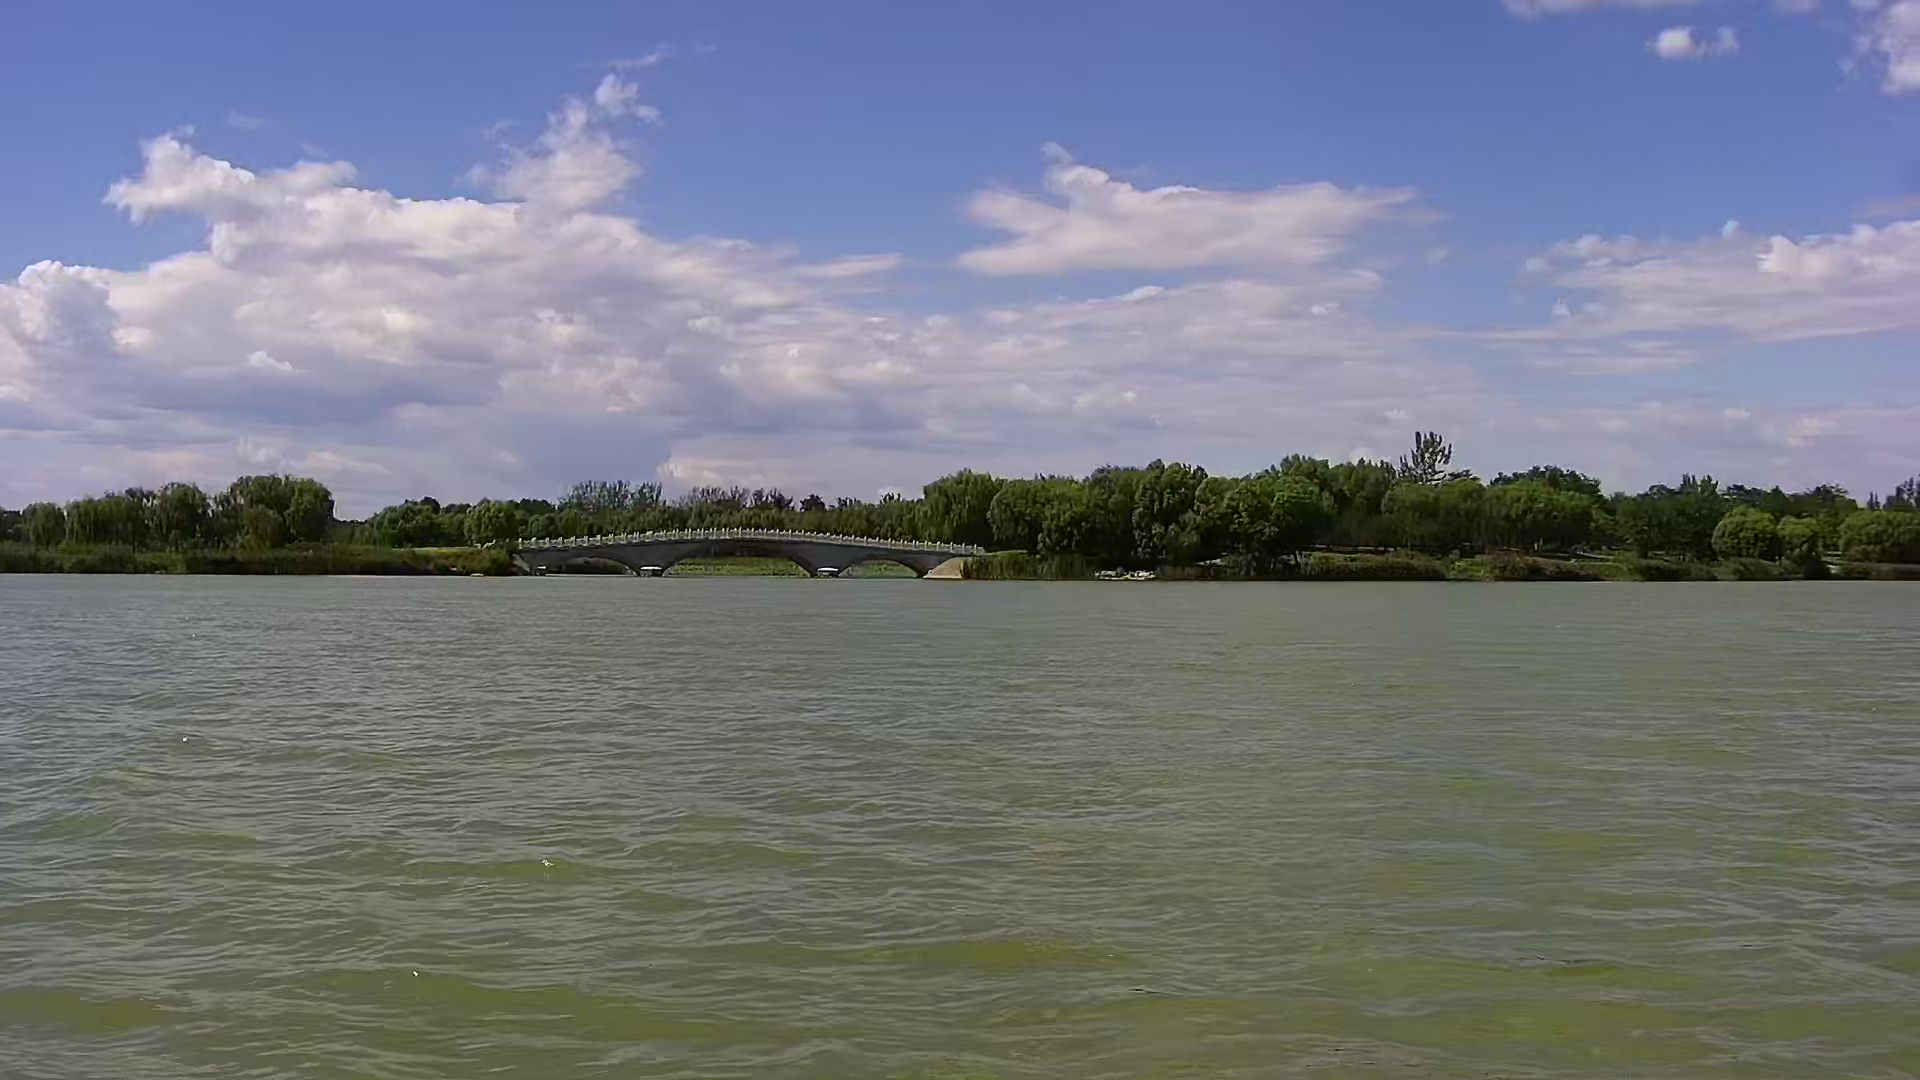bridge: (497, 526, 984, 587)
